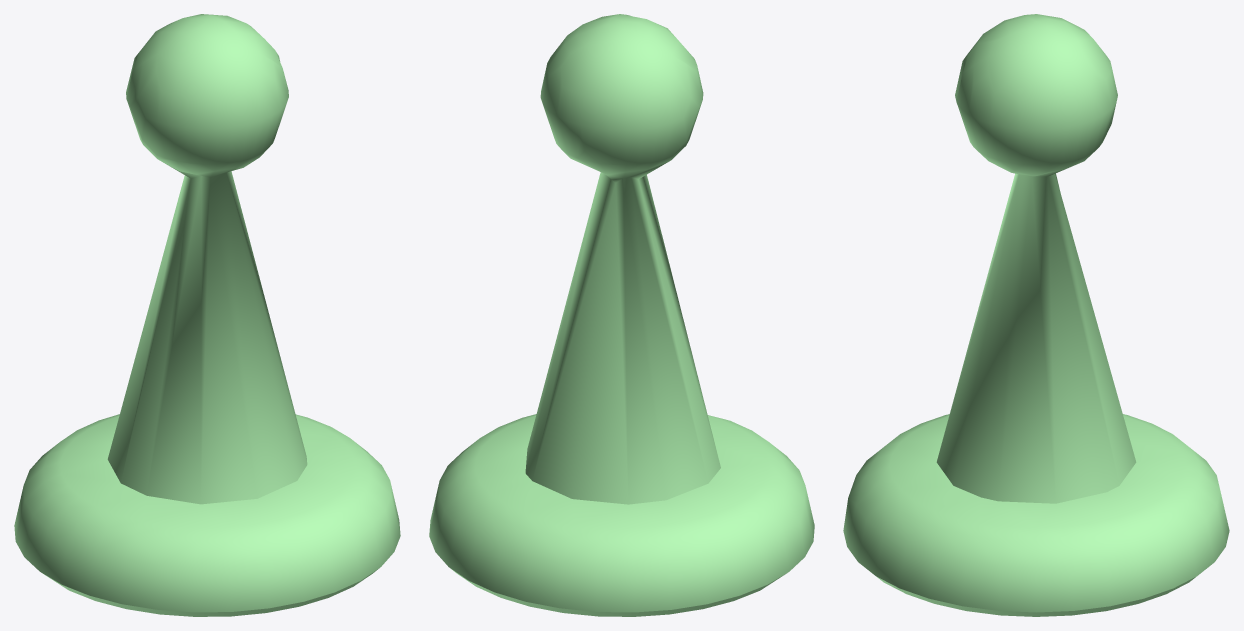
File: FichaPlayer_VerdeClaro.glb
3 views of the same model, side by side, from view 1: azimuth 30°, elevation 25°; view 2: azimuth 150°, elevation 25°; view 3: azimuth 270°, elevation 25° (orthographic).
Visible parts, largest first — view 1: prim0; view 2: prim0; view 3: prim0.
Part boxes in pixels (left/top/right/bottom): prim0: left=14, top=14, right=400, bottom=616; prim0: left=429, top=14, right=814, bottom=616; prim0: left=843, top=14, right=1229, bottom=616.
Bounding box in the file's own units: 1.72 × 2.55 × 1.72.
